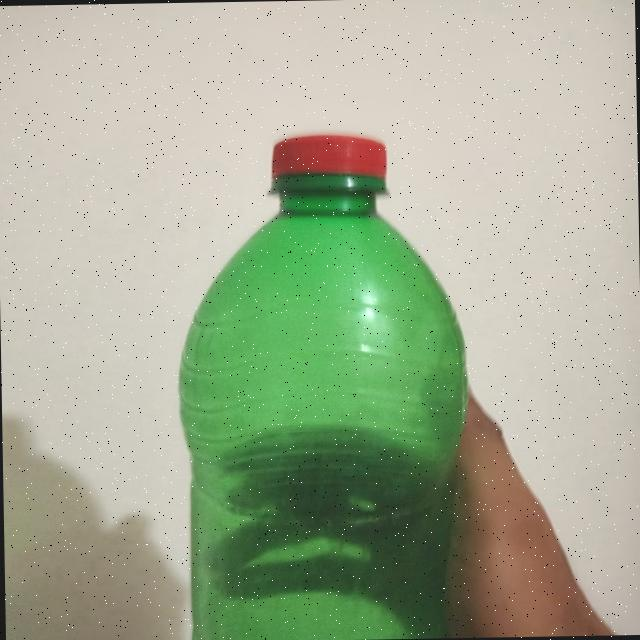bottle: (179, 134, 472, 640)
cap: (268, 132, 391, 192)
